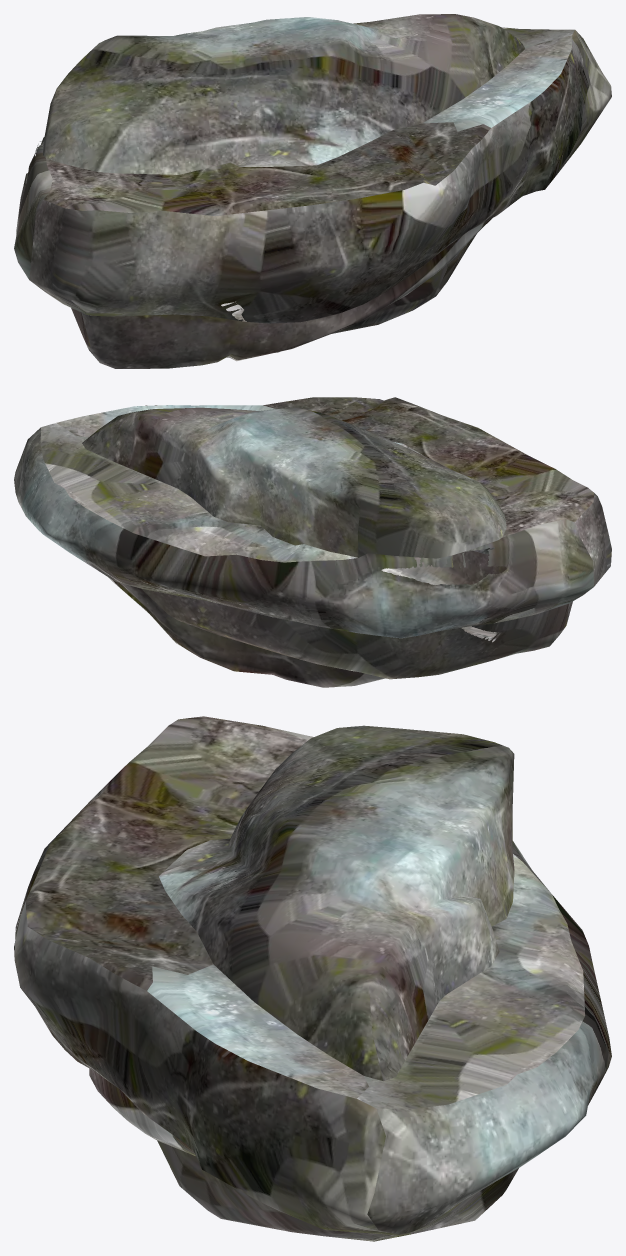
3 renders of one model, top to bottom at view 1: azimuth 30°, elevation 25°; view 2: azimuth 150°, elevation 25°; view 3: azimuth 270°, elevation 25°, orthographic. The views are drawn at different scales.
Visible parts, largest first — view 1: SM_Mining_Node_Medium_Silver_02_LOD0; view 2: SM_Mining_Node_Medium_Silver_02_LOD0; view 3: SM_Mining_Node_Medium_Silver_02_LOD0.
Part boxes in pixels (bbox=[...]): SM_Mining_Node_Medium_Silver_02_LOD0: bbox=[14, 14, 611, 368]; SM_Mining_Node_Medium_Silver_02_LOD0: bbox=[14, 397, 611, 687]; SM_Mining_Node_Medium_Silver_02_LOD0: bbox=[14, 716, 611, 1241].
Bounding box in the file's own units: 3.55 × 1.49 × 2.16.
